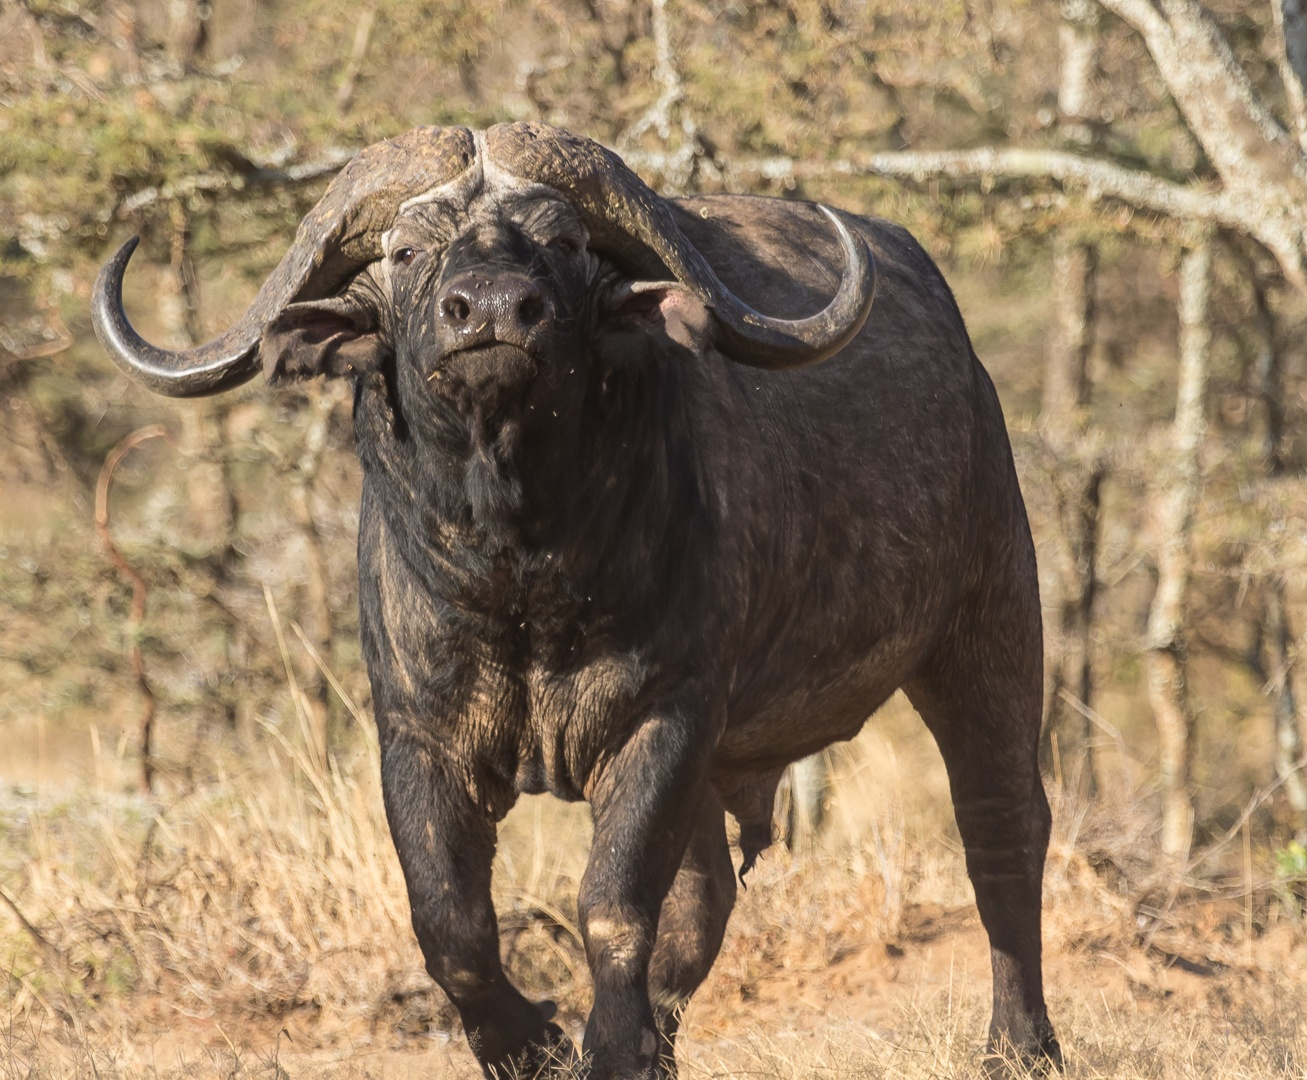buffalo: (89, 122, 1054, 1079)
